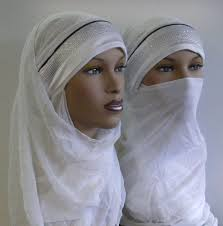middle_eastern_Female: (45, 27, 129, 131)
